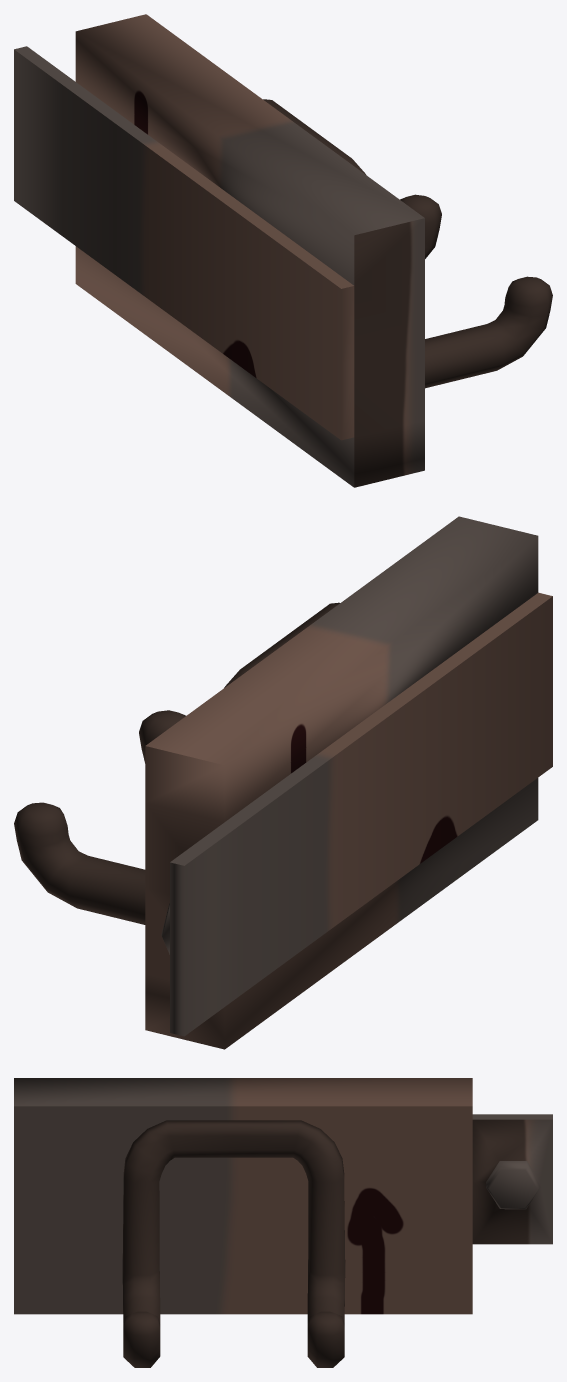
The model's file is SM_Toolrack_End_Right.fbx.
3 views of the same model, one above another, from view 1: azimuth 30°, elevation 25°; view 2: azimuth 150°, elevation 25°; view 3: azimuth 270°, elevation 25° (orthographic). The views are drawn at different scales.
Visible parts, largest first — view 1: Toolrack_End_Right; view 2: Toolrack_End_Right; view 3: Toolrack_End_Right.
Boxes of the visible parts, x1=… form: Toolrack_End_Right: x1=14, y1=14, x2=552, y2=487; Toolrack_End_Right: x1=14, y1=516, x2=552, y2=1049; Toolrack_End_Right: x1=14, y1=1078, x2=552, y2=1367.
Size of the model in its own units: 23.61 by 20 by 47.
